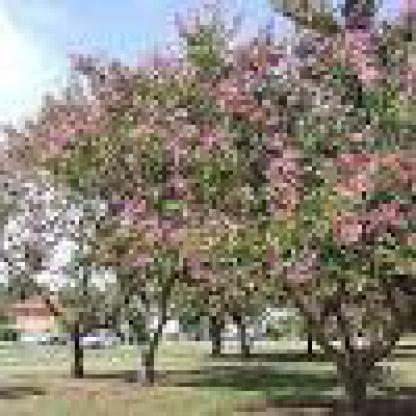Kenanga: (71, 51, 181, 278)
